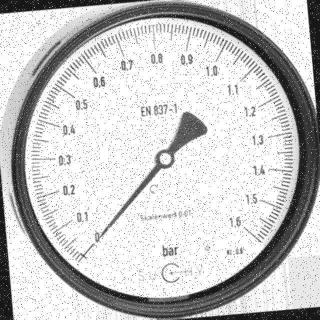gauge: (0, 0, 320, 320), (230, 210, 260, 244), (83, 227, 106, 260), (154, 146, 176, 170), (96, 231, 106, 242)
